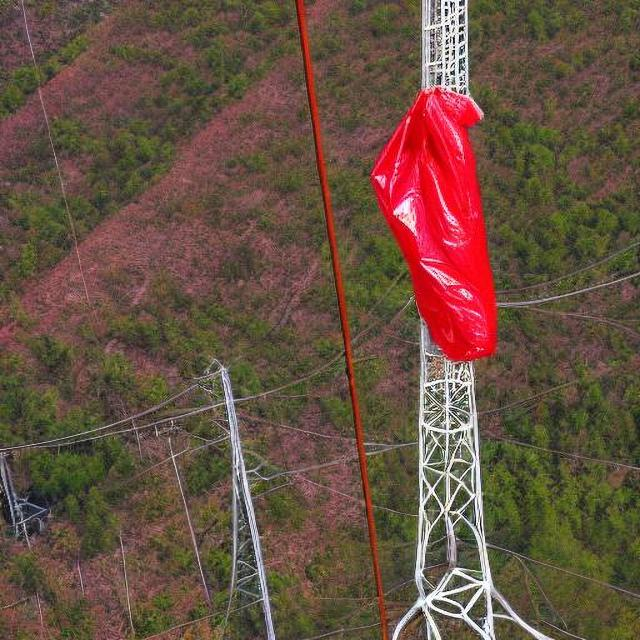plastic bag: (373, 86, 496, 357)
